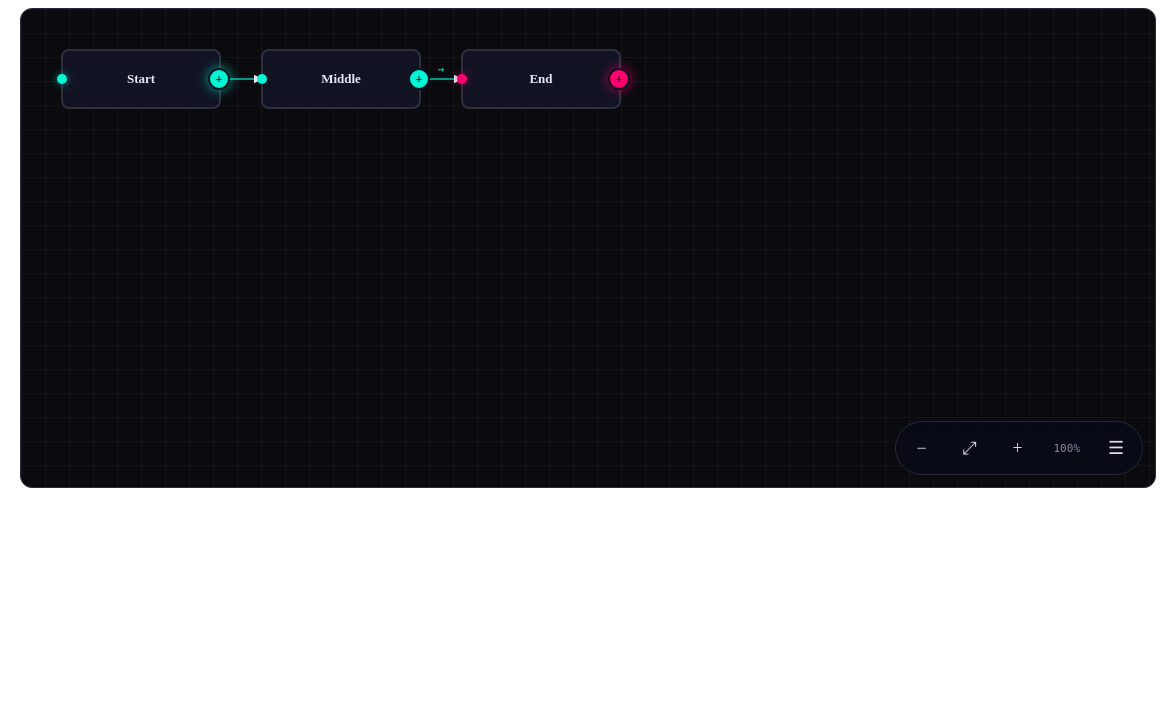
Test: TkxFlowChart zoom controls › zoom-in changes the readout
This screenshot has width=1164, height=720.
Click the button with test id "flow-zoom-in".
click(1018, 448)  # box [996,426,1040,470]
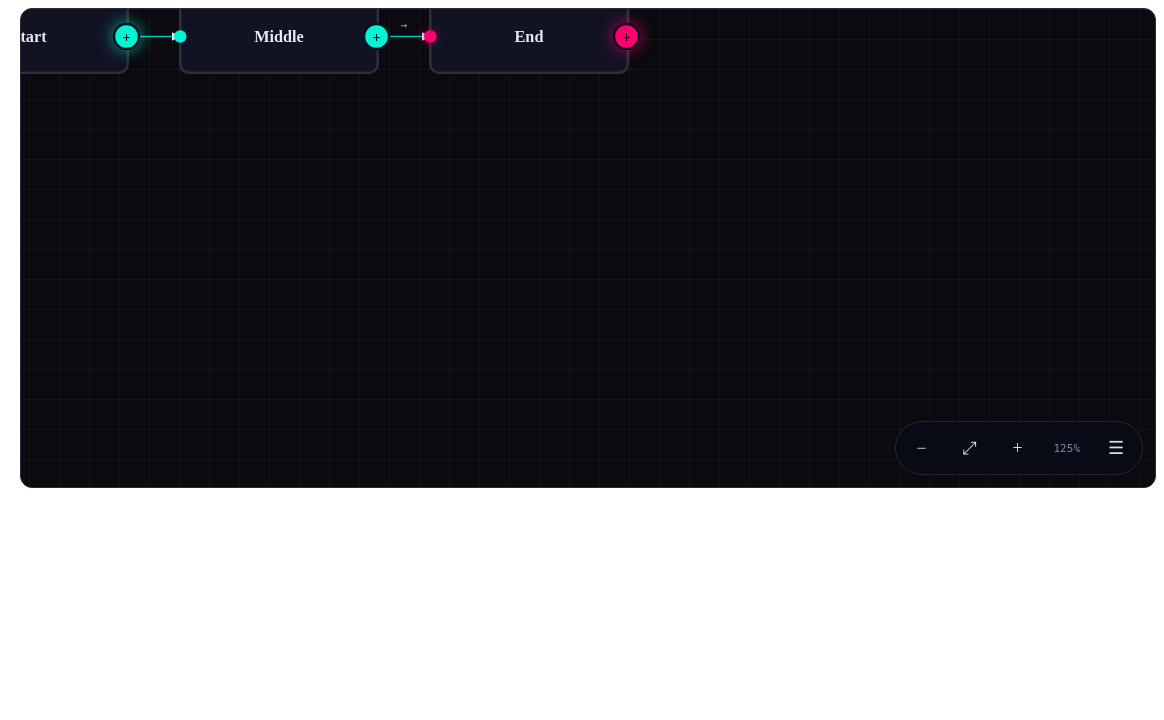
Result: the text with test id "flow-zoom-readout" reads "125%" at [1054,442,1080,454]
